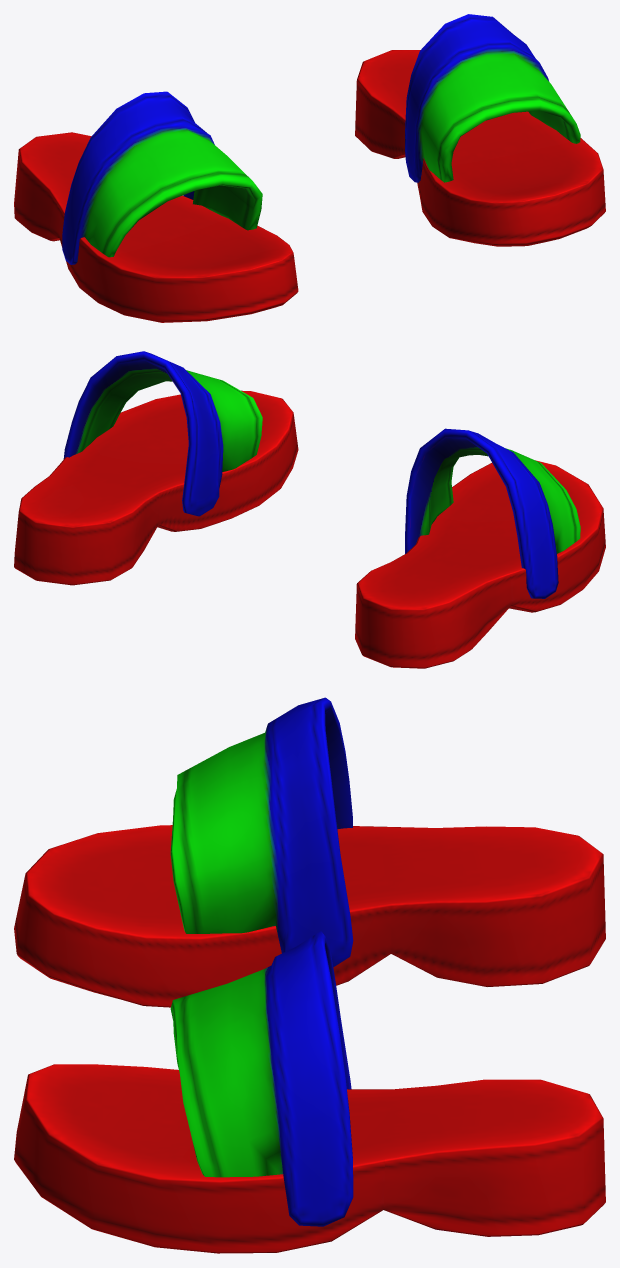
File: Outfit_Feet_BlockSandles.obj
3 views of the same model, one above another, from view 1: azimuth 30°, elevation 25°; view 2: azimuth 150°, elevation 25°; view 3: azimuth 270°, elevation 25° (orthographic). The views are drawn at different scales.
Visible parts, largest first — view 1: Outfit_Feet_BlockSandles_0; view 2: Outfit_Feet_BlockSandles_0; view 3: Outfit_Feet_BlockSandles_0.
Part boxes in pixels (bbox=[...]): Outfit_Feet_BlockSandles_0: bbox=[14, 14, 605, 322]; Outfit_Feet_BlockSandles_0: bbox=[14, 351, 605, 668]; Outfit_Feet_BlockSandles_0: bbox=[14, 697, 605, 1253].
Size of the model in its own units: 0.3439 by 0.1152 by 0.238.
1 material, 1 textured.
